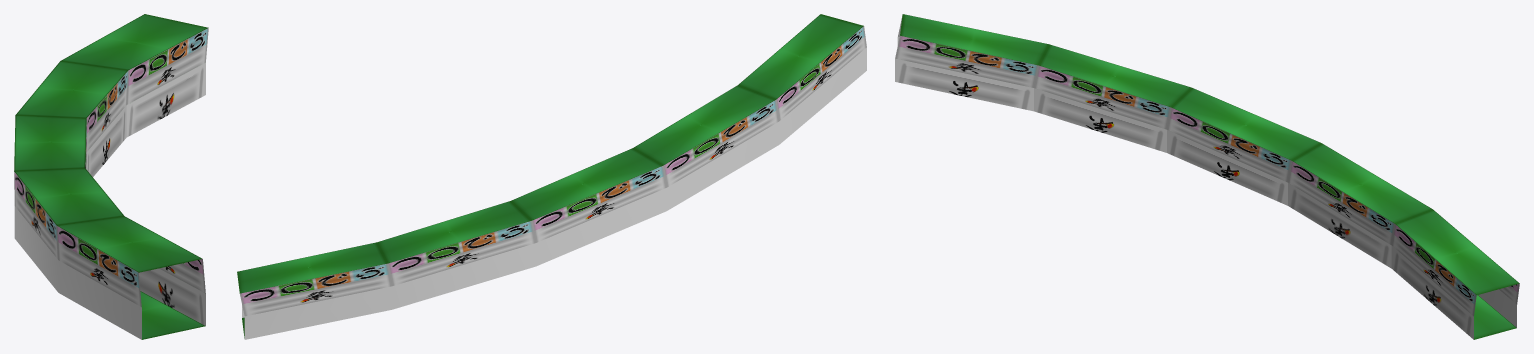
The model's file is CourseSummer_Wall_L_2.fbx.
The picture shows the model from 3 angles, left to right: view 1: azimuth 30°, elevation 25°; view 2: azimuth 150°, elevation 25°; view 3: azimuth 270°, elevation 25°; orthographic projection. The views are drawn at different scales.
Visible parts, largest first — view 1: polySurface53; view 2: polySurface53; view 3: polySurface53.
Part boxes in pixels (x1,y1,x2,y2): polySurface53: (14, 14, 208, 339); polySurface53: (237, 14, 866, 339); polySurface53: (895, 14, 1519, 339).
Bounding box in the file's own units: 15.11 × 6.98 × 24.23.
1 material, 1 textured.
